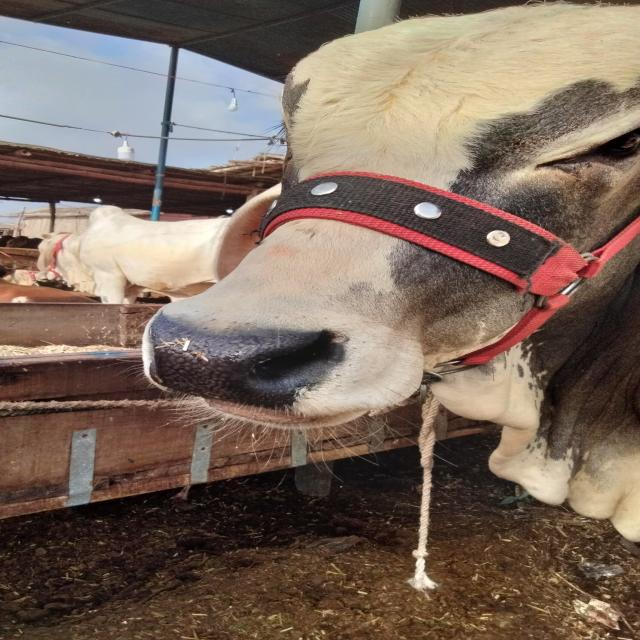muzzles: (131, 298, 367, 416)
